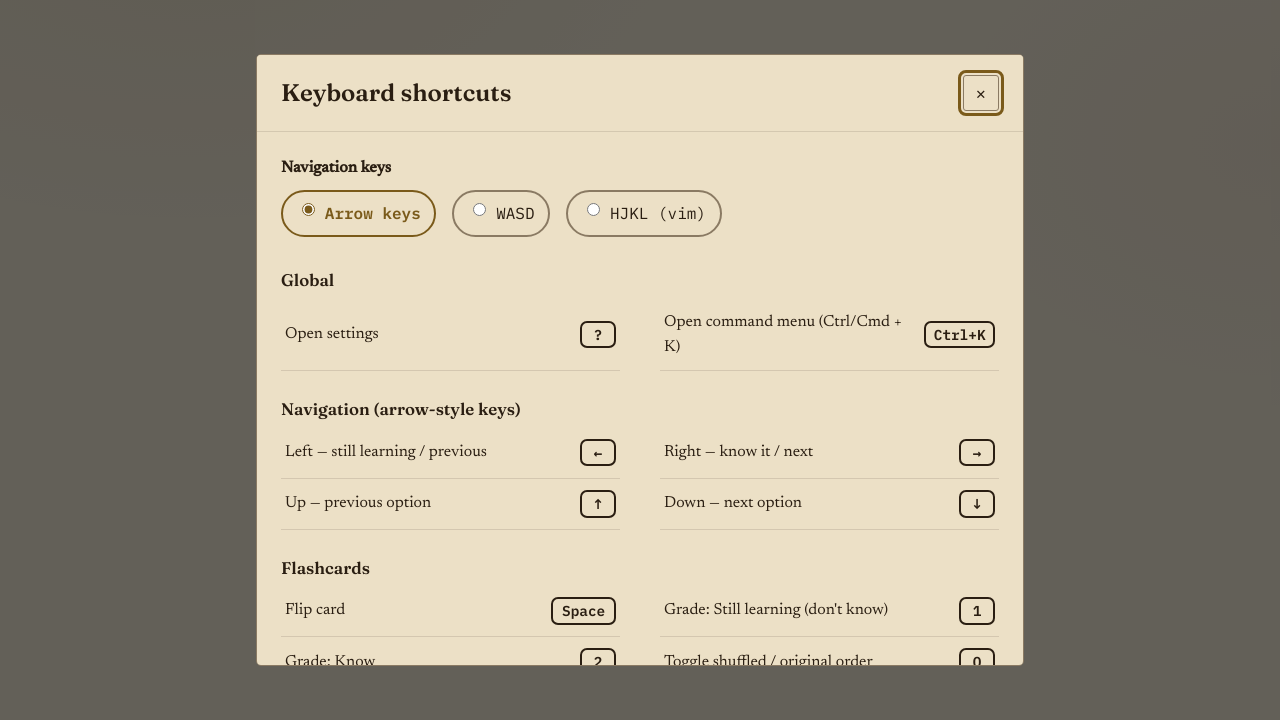
it: ShortcutsModal navigation presets › remaps the four nav keys when a preset is chosen, and back again
Expected: the radio button with test id "nav-preset-arrows" is checked, top-left (302, 203), bottom-right (315, 216)
Expected: the text "←" is shown, top-left (580, 439), bottom-right (616, 466)
Click the radio button with test id "nav-preset-wasd". click: (480, 209)
box: top-left (473, 203), bottom-right (486, 216)
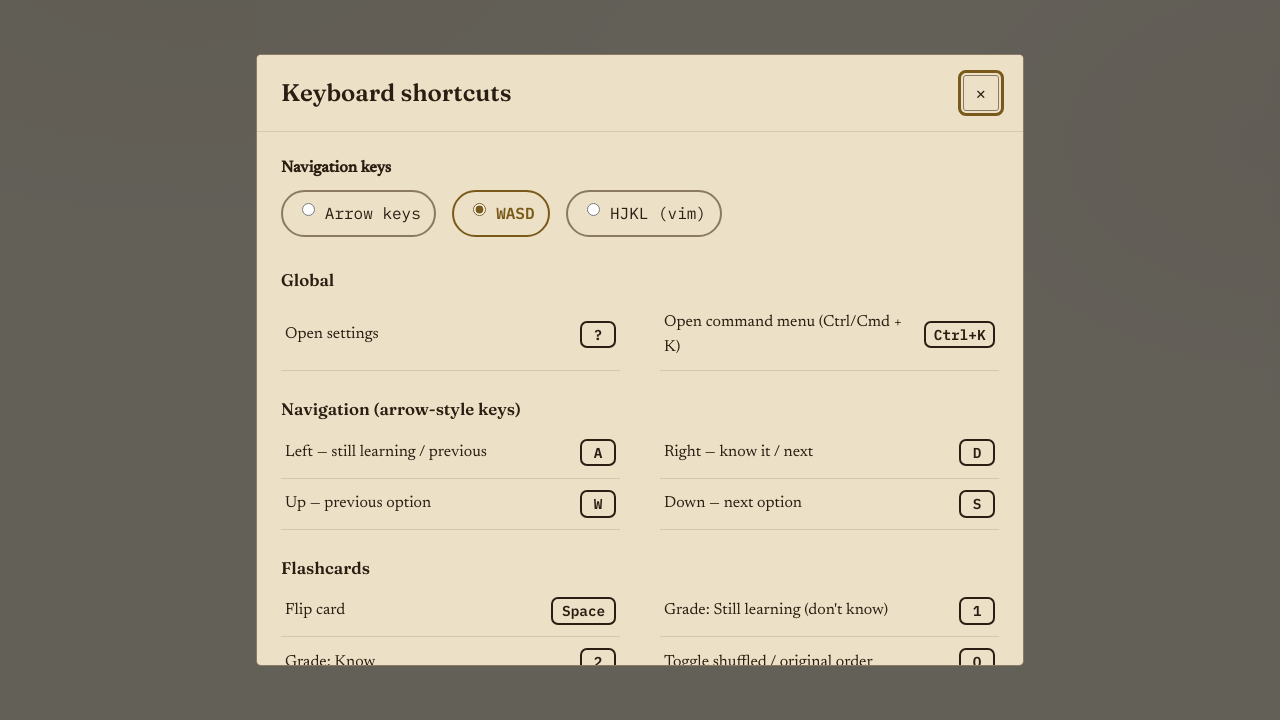
Now the radio button with test id "nav-preset-wasd" is checked, box top-left (473, 203), bottom-right (486, 216)
Now the text "A" is shown, box top-left (580, 439), bottom-right (616, 466)
Click the radio button with test id "nav-preset-hjkl". click: (593, 209)
box: top-left (587, 203), bottom-right (600, 216)
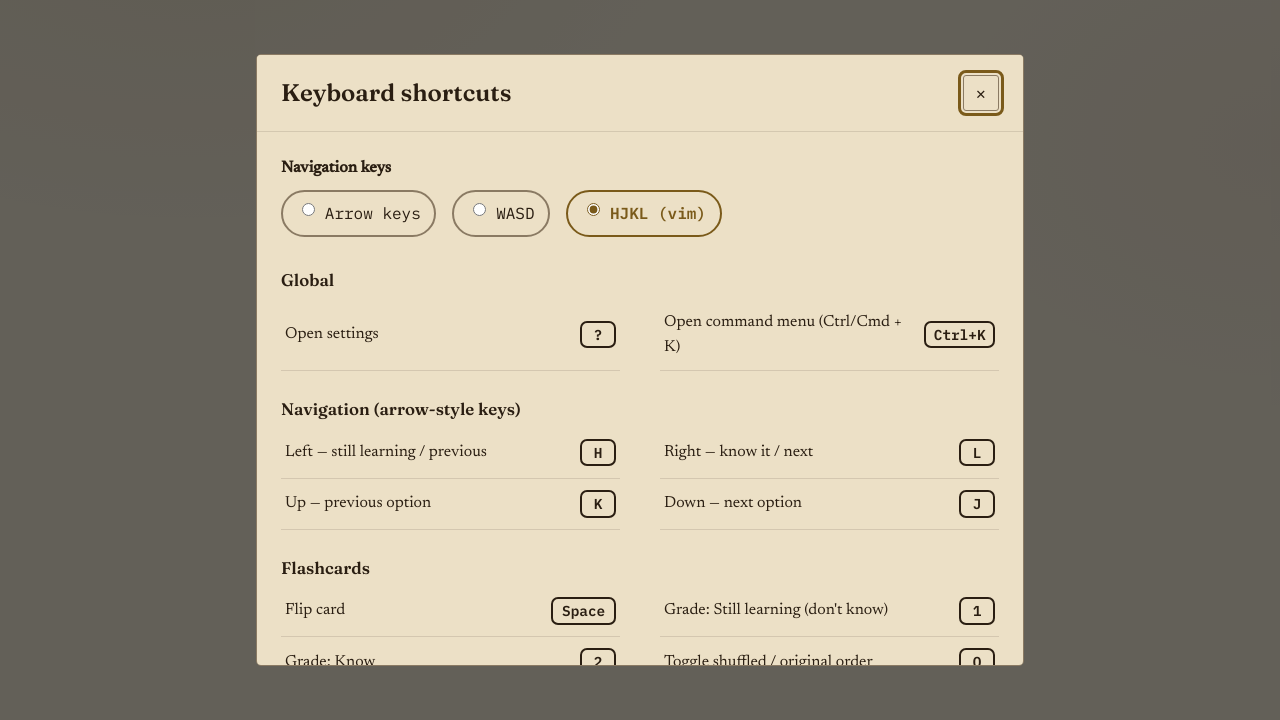
Now the text "H" is shown, box top-left (580, 439), bottom-right (616, 466)
Click the radio button with test id "nav-preset-arrows". click: (308, 209)
box: top-left (302, 203), bottom-right (315, 216)
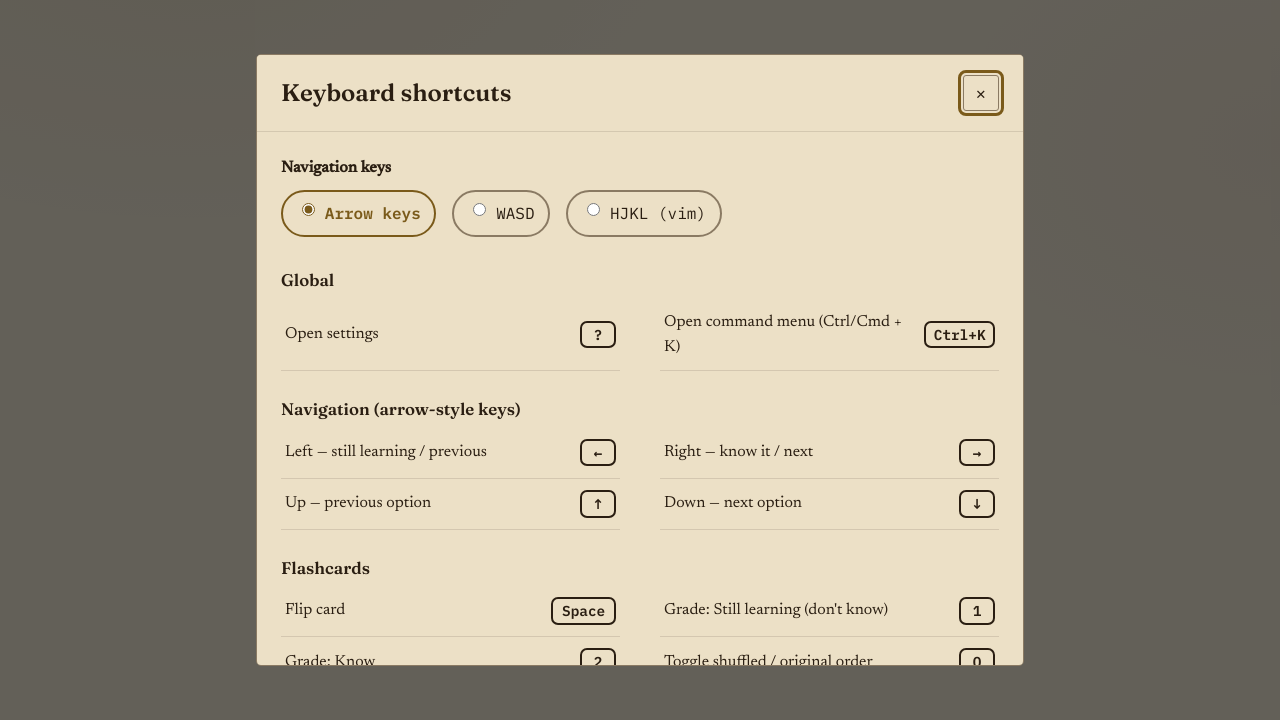
Now the radio button with test id "nav-preset-arrows" is checked, box top-left (302, 203), bottom-right (315, 216)
Now the text "←" is shown, box top-left (580, 439), bottom-right (616, 466)
